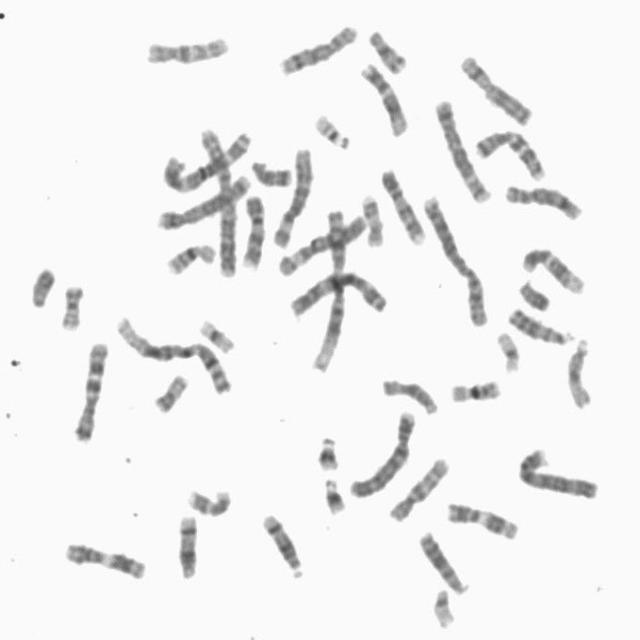A1: (110, 308, 236, 396), (306, 202, 354, 374)
A2: (417, 186, 492, 328), (195, 121, 241, 279)
A3: (158, 124, 255, 194), (285, 264, 391, 318)
B4: (345, 403, 418, 500), (513, 440, 602, 501)
B5: (430, 91, 495, 204), (151, 166, 254, 232)
C10: (384, 448, 453, 524), (140, 28, 233, 66)
C11: (58, 535, 151, 582), (441, 494, 523, 542)
C12: (356, 56, 412, 138), (518, 240, 589, 296)
C6: (274, 208, 371, 277), (268, 138, 316, 248)
C7: (67, 334, 112, 444), (470, 122, 550, 182)
C8: (274, 17, 361, 77), (500, 176, 586, 222)
C9: (376, 162, 429, 246), (236, 186, 270, 270)
D13: (414, 524, 472, 596), (503, 300, 577, 346)
D14: (258, 505, 306, 580), (172, 508, 202, 580)
D15: (377, 370, 442, 416), (562, 330, 596, 410)
E16: (161, 235, 220, 277), (445, 371, 505, 404)
E17: (182, 481, 235, 518), (358, 186, 388, 248)
E18: (364, 21, 411, 75), (246, 152, 295, 188)
F19: (194, 311, 239, 354), (491, 325, 524, 374)
F20: (149, 366, 192, 415), (54, 277, 88, 332)
G21: (318, 471, 349, 516), (312, 429, 343, 473)
G22: (310, 106, 354, 150), (428, 582, 459, 630)
X: (456, 47, 536, 126)
Y: (24, 260, 59, 308)
